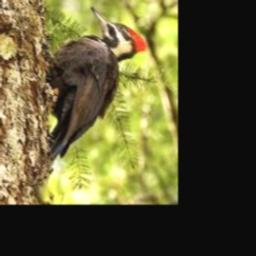Woodpecker: (45, 6, 147, 162)
